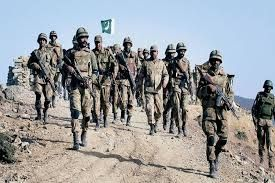uniform: (201, 58, 229, 173), (159, 46, 193, 128), (65, 34, 91, 139), (253, 75, 275, 167), (91, 38, 113, 128), (113, 38, 138, 115), (141, 50, 165, 127), (33, 40, 55, 118), (46, 30, 63, 86)
